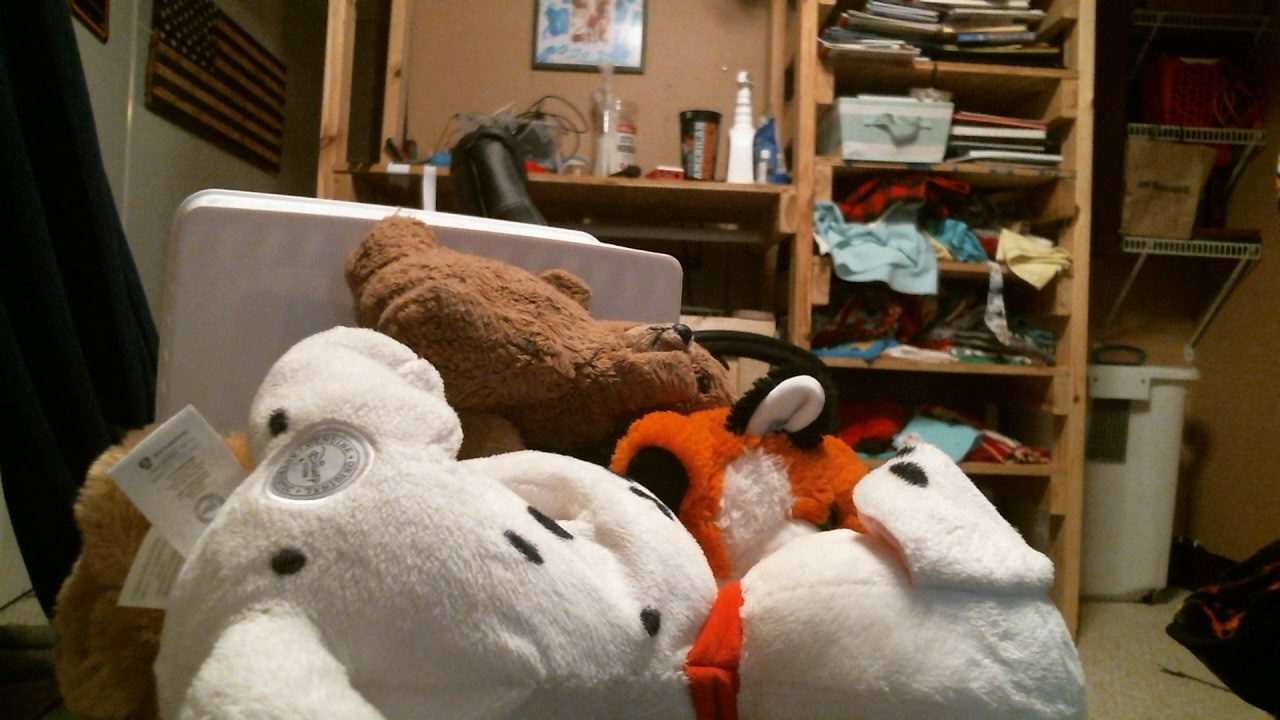Little_Mister_Bear: (611, 327, 721, 407)
